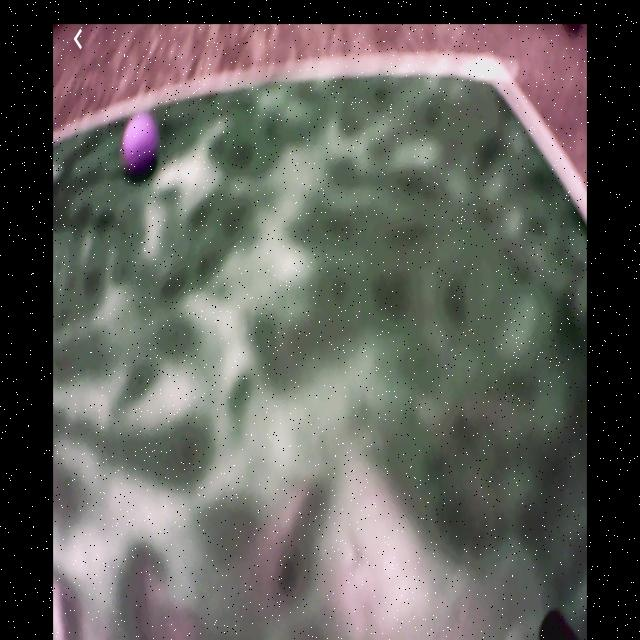ball: (124, 114, 158, 168)
